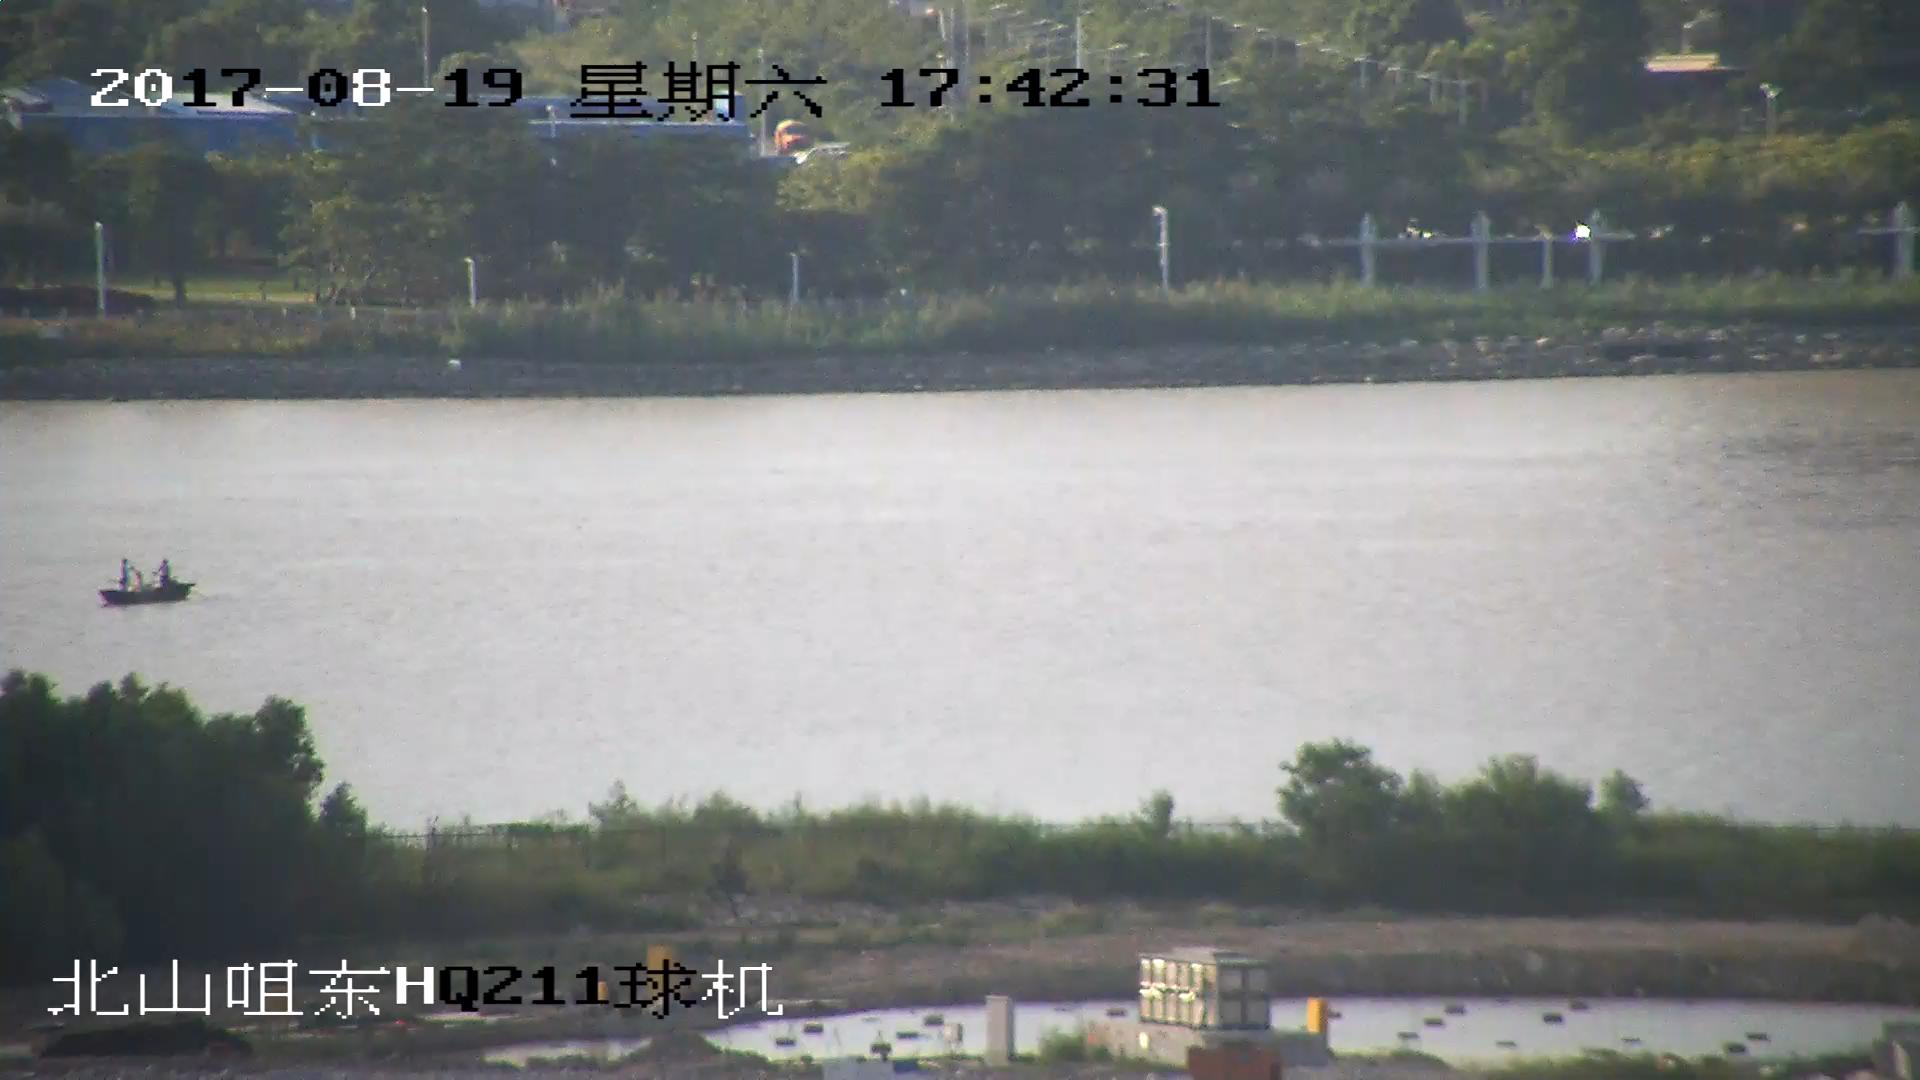fishing boat: (98, 556, 195, 606)
